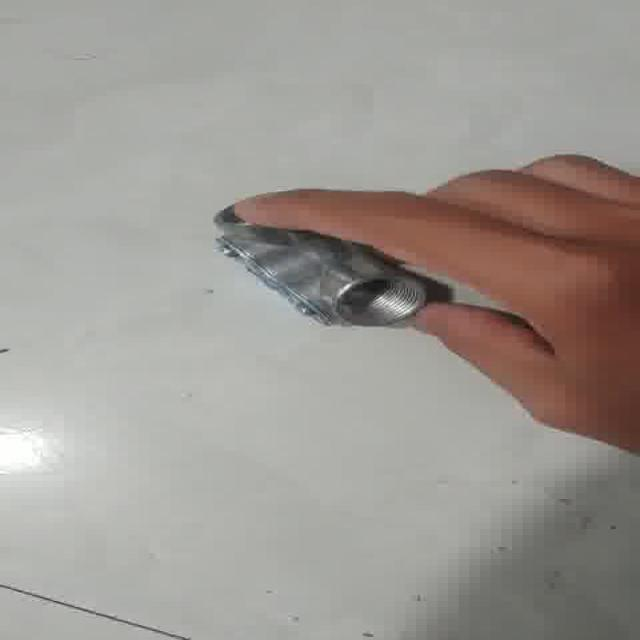Dry Waste: (203, 202, 437, 331)
